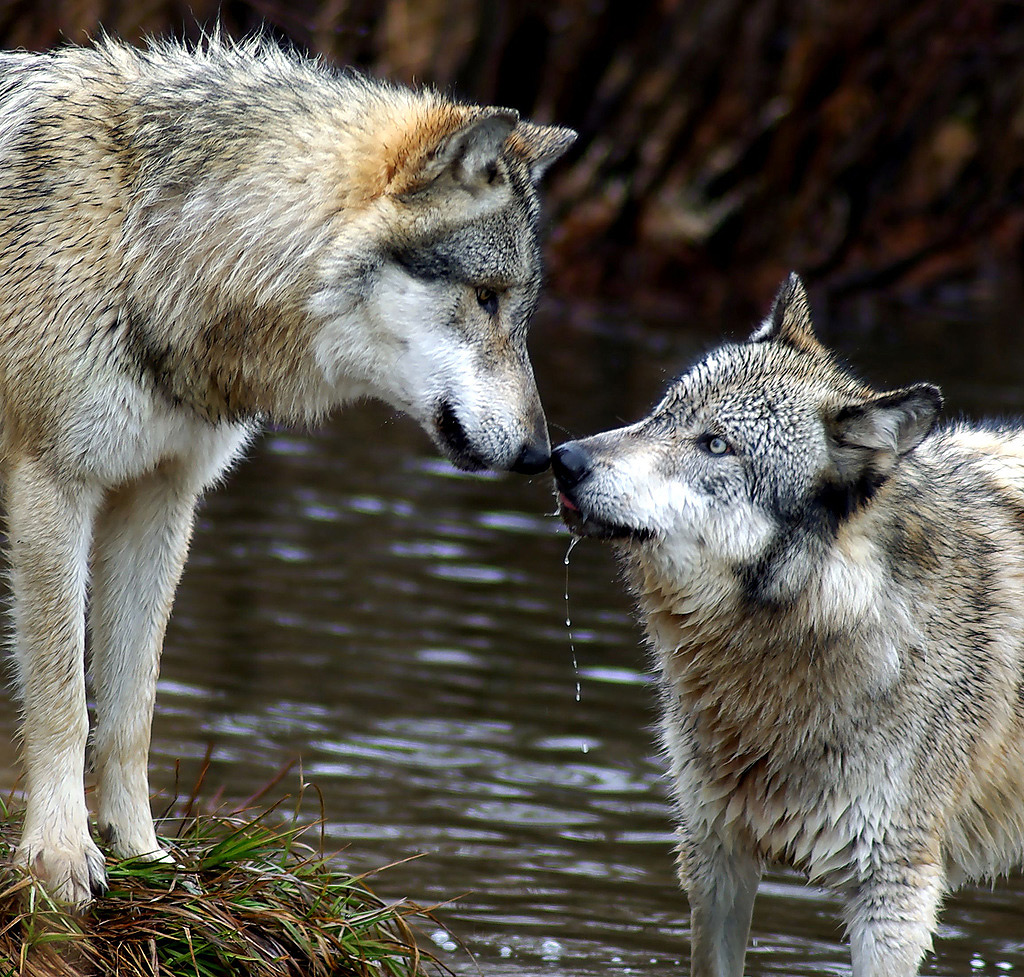Lobo: (9, 40, 561, 937), (606, 164, 1021, 977)
